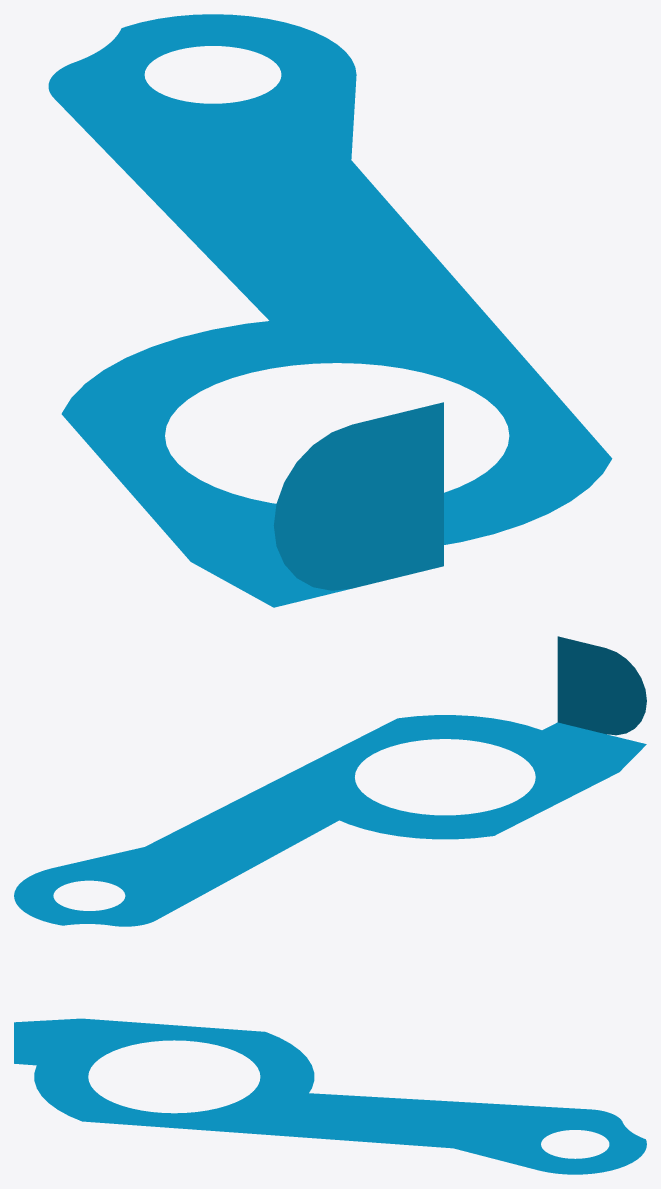
Rendered from original-53.obj.
The picture shows the model from 3 angles, top to bottom: view 1: azimuth 30°, elevation 25°; view 2: azimuth 150°, elevation 25°; view 3: azimuth 270°, elevation 25°; orthographic projection. The views are drawn at different scales.
Visible parts, largest first — view 1: #ID468; view 2: #ID468; view 3: #ID468.
Part boxes in pixels (<box>): #ID468: <box>48,14,612,607</box>; #ID468: <box>14,636,646,926</box>; #ID468: <box>14,1018,646,1174</box>.
Size of the model in its own units: 0.2286 by 0.056 by 0.3916.
